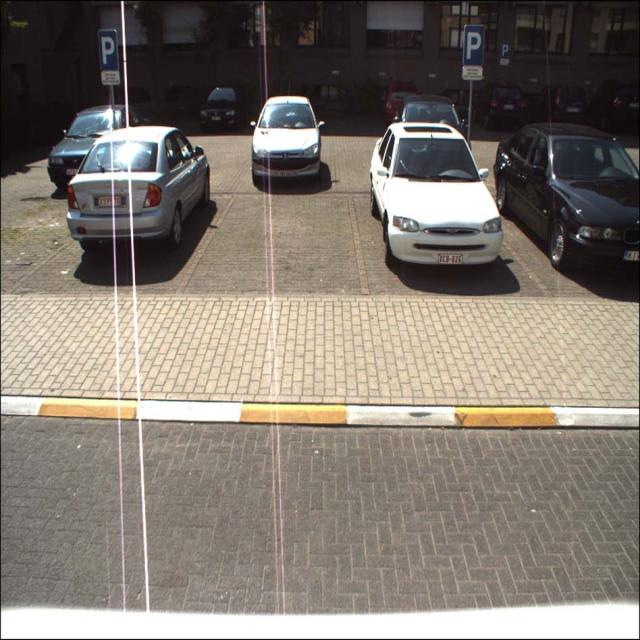park: (462, 25, 483, 66), (98, 30, 118, 70), (501, 42, 509, 58)
